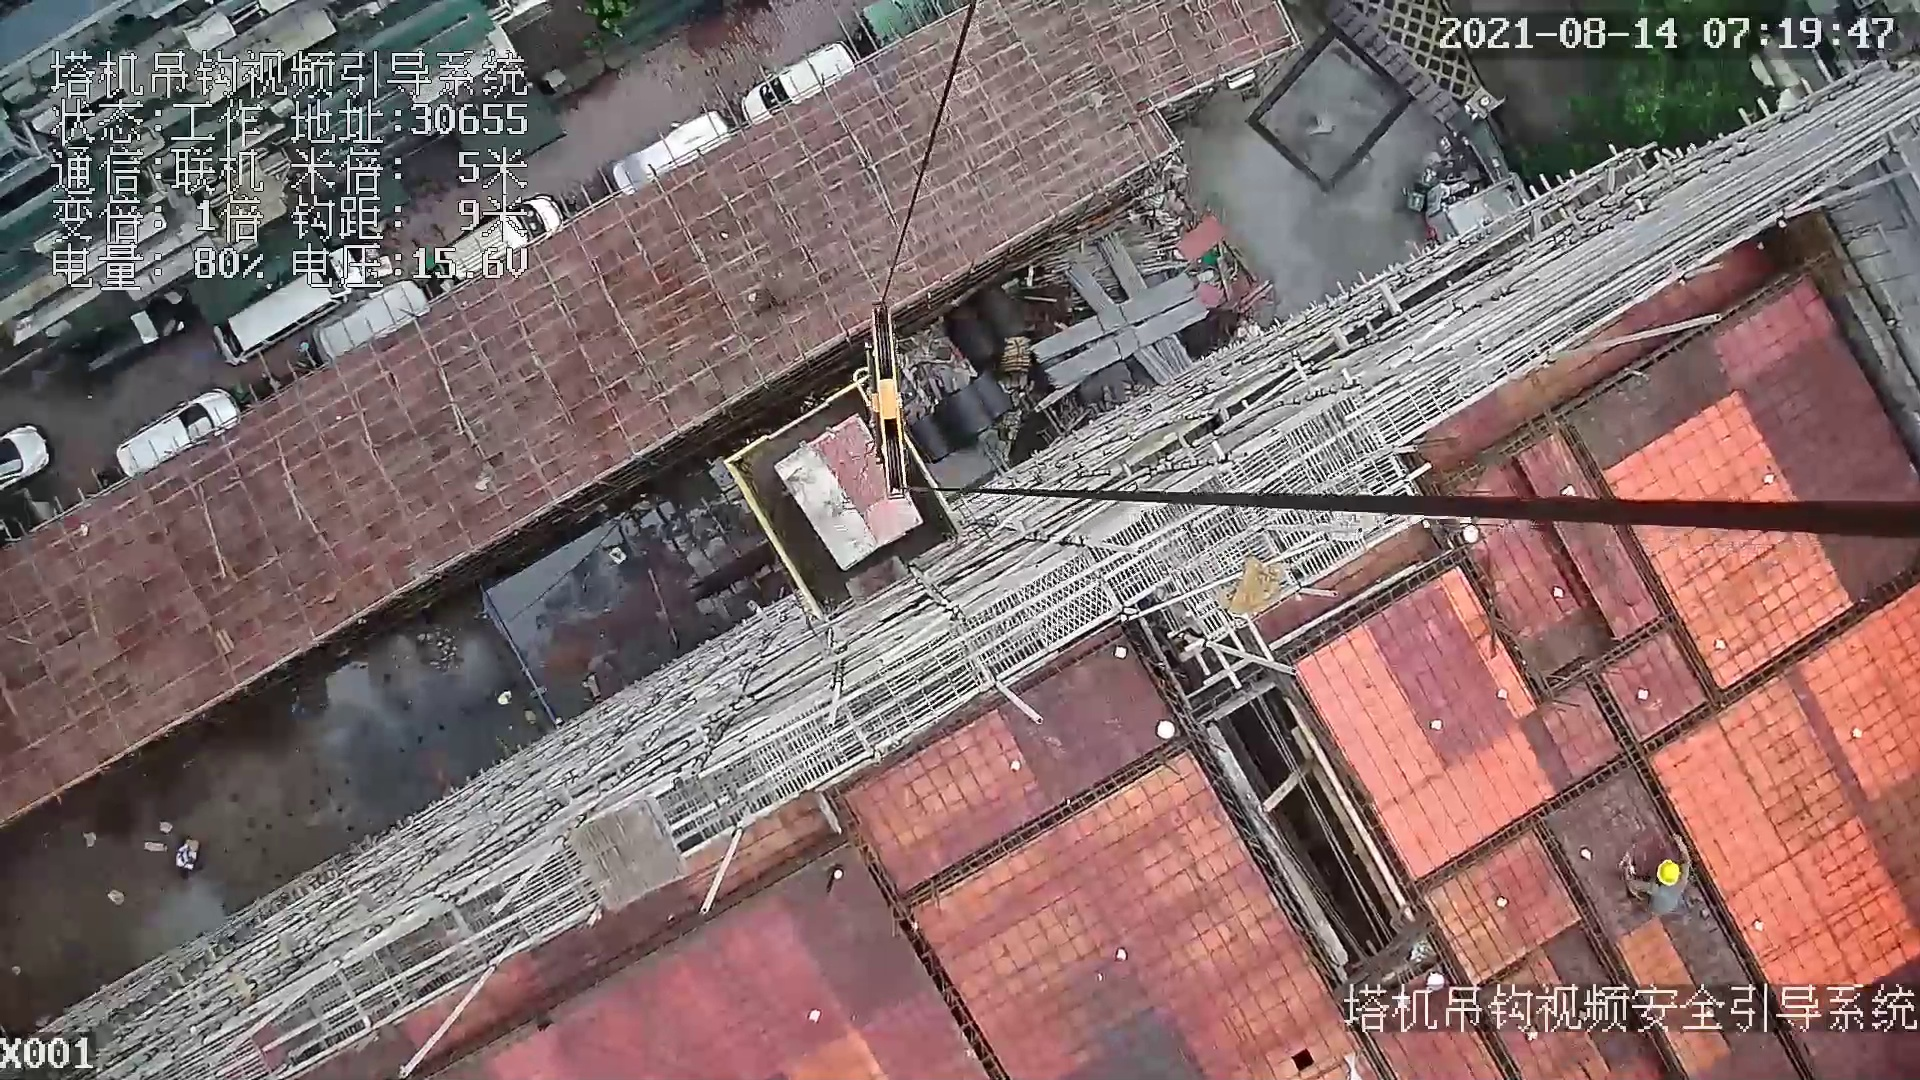helmet: (1652, 854, 1682, 889)
hook: (854, 295, 918, 505)
person: (1624, 837, 1687, 924)
